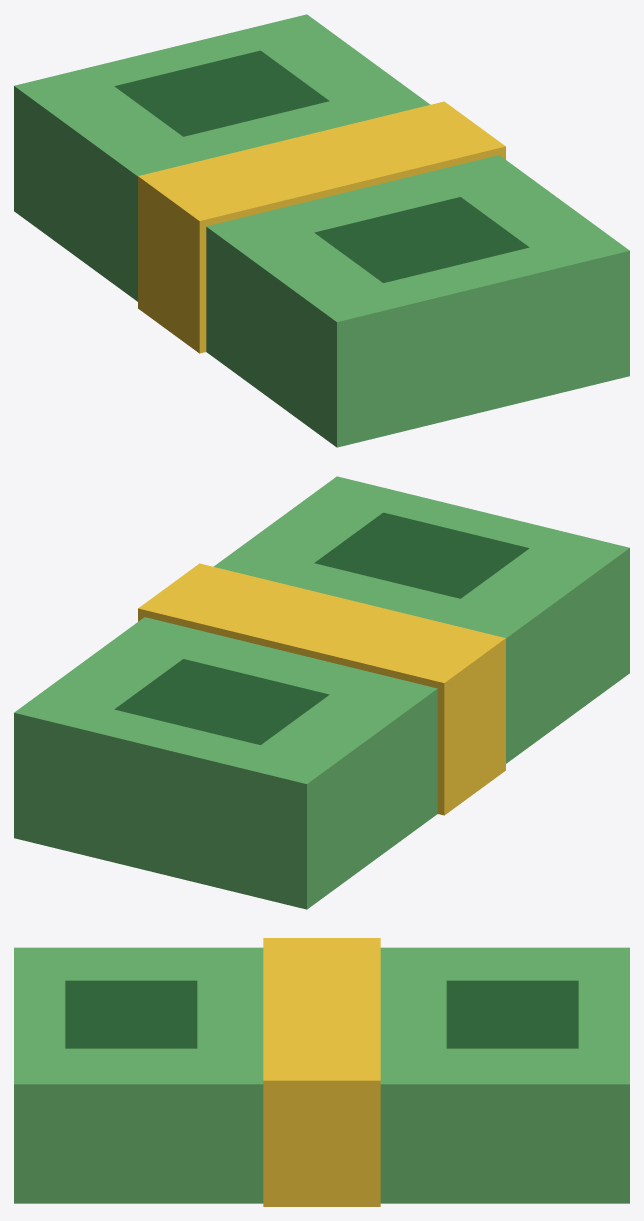
File: cash.glb
3 views of the same model, one above another, from view 1: azimuth 30°, elevation 25°; view 2: azimuth 150°, elevation 25°; view 3: azimuth 270°, elevation 25° (orthographic). The views are drawn at different scales.
Parts seen in each view (by area): view 1: cash; view 2: cash; view 3: cash.
Boxes of the visible parts, box(x1,y1,x2,y2) form: cash: box(14, 14, 629, 447); cash: box(14, 476, 629, 909); cash: box(14, 938, 629, 1206).
Bounding box in the file's own units: 0.23 × 0.095 × 0.42.
1 material, 1 textured.
